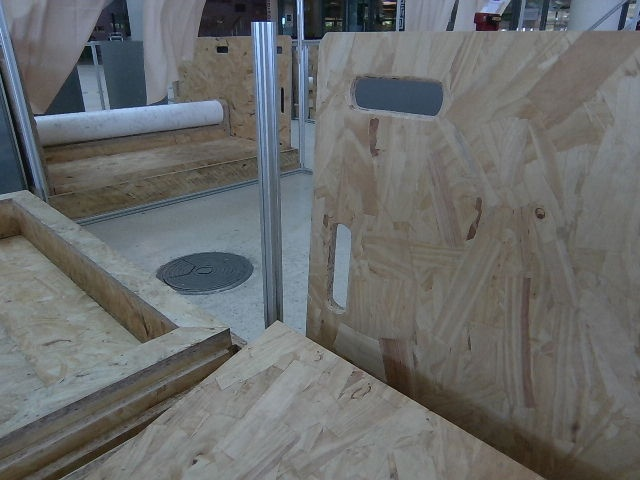curtain: (0, 0, 224, 58)
